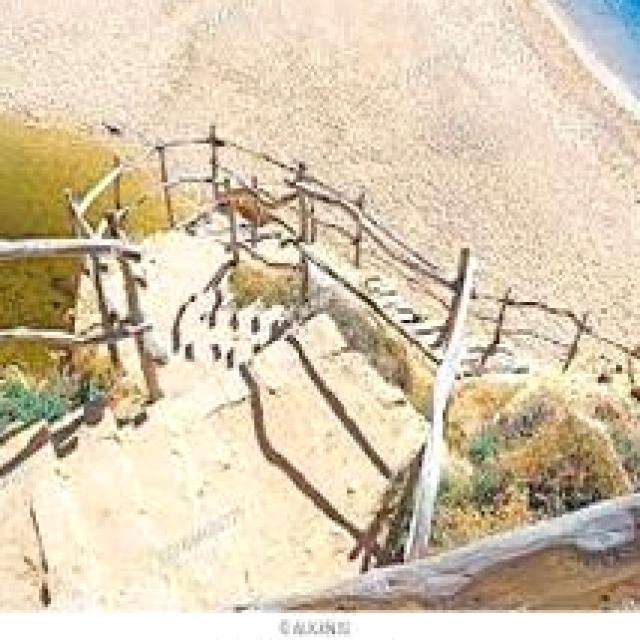downstair: (13, 396, 330, 596)
